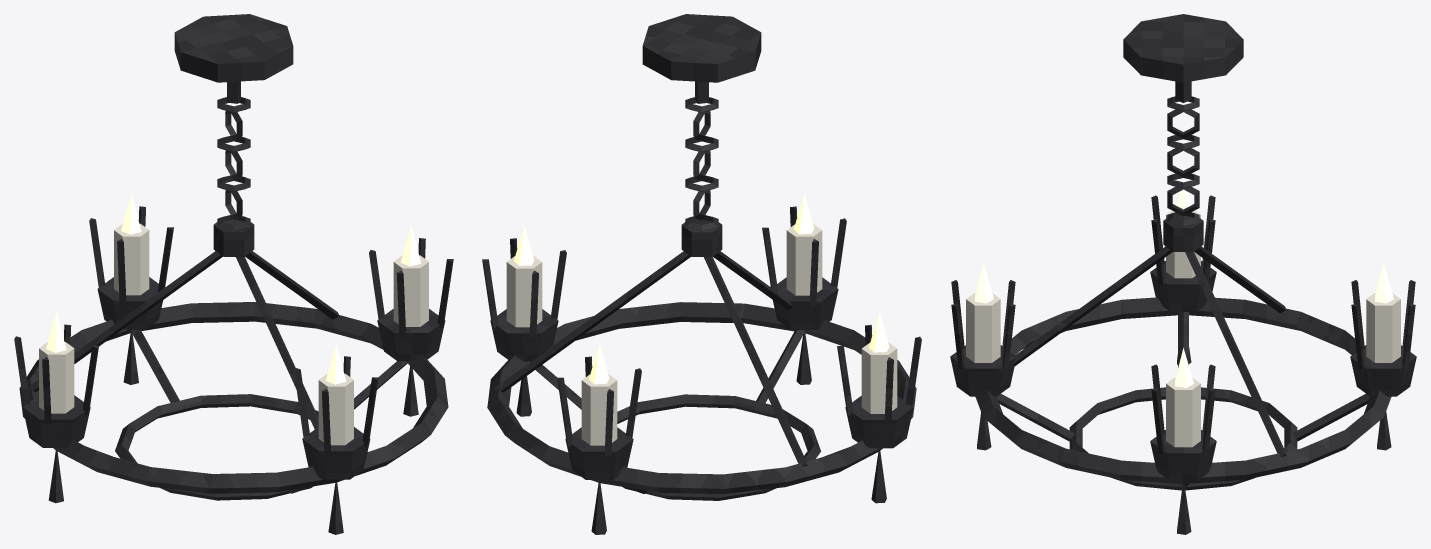
File: lantern_hanging.glb
3 renders of one model, left to right at view 1: azimuth 30°, elevation 25°; view 2: azimuth 150°, elevation 25°; view 3: azimuth 270°, elevation 25°, orthographic. The views are drawn at different scales.
Parts seen in each view (by area): view 1: body, lamp_on; view 2: body, lamp_on; view 3: body, lamp_on.
Boxes of the visible parts, box(x1,y1,x2,y2) form: body: box(14, 14, 453, 534); lamp_on: box(46, 193, 421, 384); body: box(482, 14, 921, 534); lamp_on: box(514, 193, 889, 384); body: box(950, 14, 1416, 534); lamp_on: box(975, 178, 1393, 387).
Size of the model in its own units: 0.6964 by 0.675 by 0.7.
3 materials, 1 textured.
